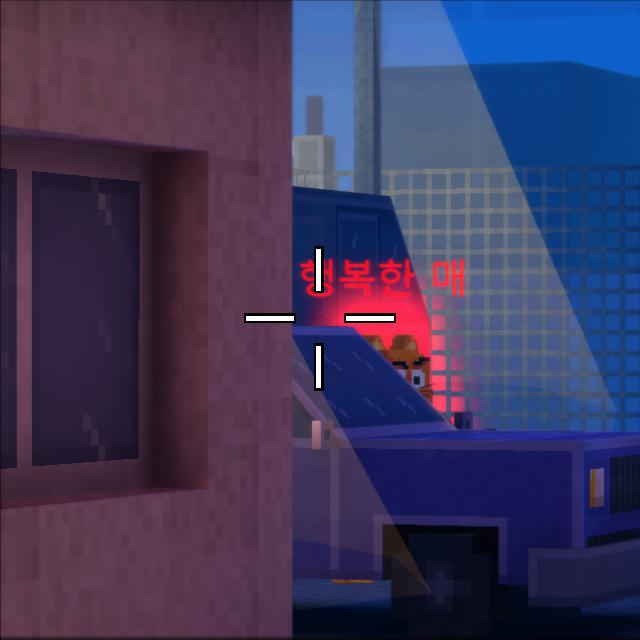Enemy: (379, 349, 434, 405)
